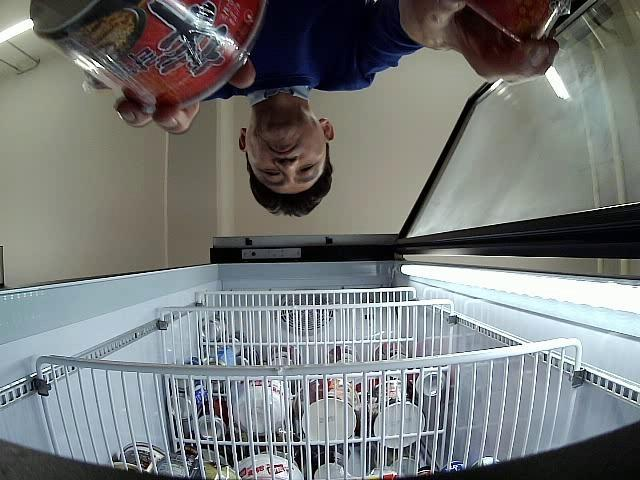01_ShinRamen_L: (30, 0, 271, 117), (464, 0, 568, 45)
